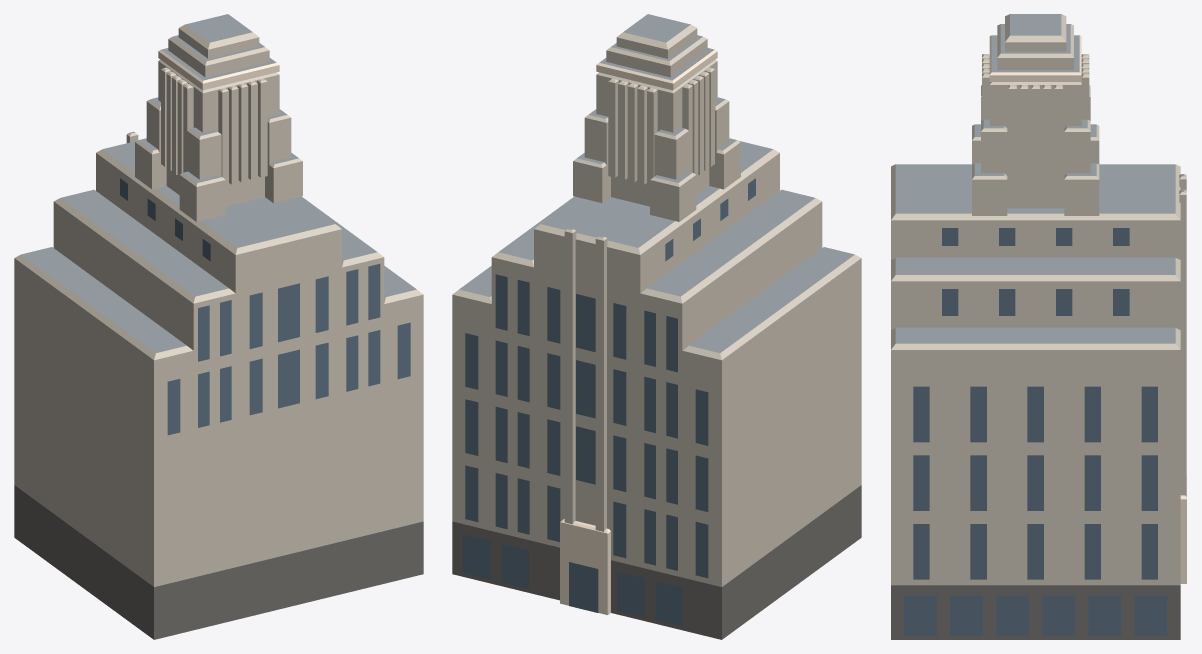
File: mexico-city-edificio-la-nacional.glb
The picture shows the model from 3 angles, left to right: view 1: azimuth 30°, elevation 25°; view 2: azimuth 150°, elevation 25°; view 3: azimuth 270°, elevation 25°; orthographic projection. The views are drawn at different scales.
Visible parts, largest first — view 1: Edificio La Nacional; view 2: Edificio La Nacional; view 3: Edificio La Nacional.
Boxes of the visible parts, <box> form: Edificio La Nacional: <box>14,14,423,639</box>; Edificio La Nacional: <box>452,14,861,639</box>; Edificio La Nacional: <box>891,14,1186,639</box>.
Bounding box in the file's own units: 29.45 × 55 × 27.1.
